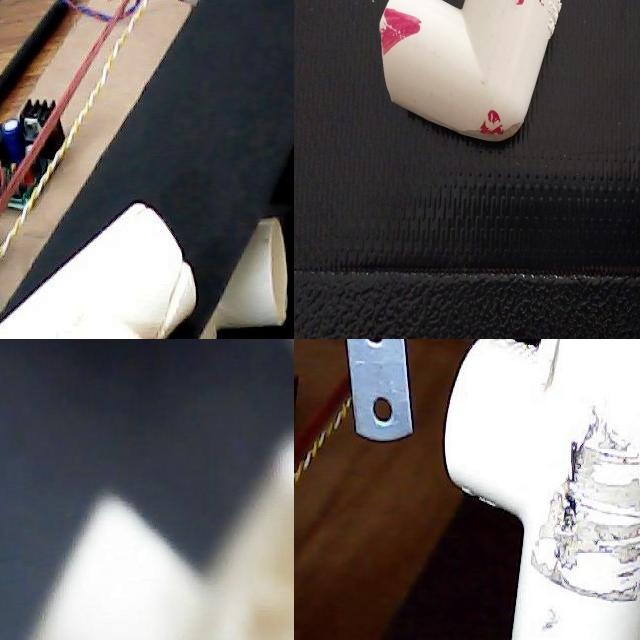Defective: (548, 419, 640, 613), (200, 496, 294, 640), (569, 339, 640, 466), (149, 217, 186, 339), (380, 281, 443, 339), (546, 41, 602, 91), (537, 339, 573, 406), (542, 3, 608, 39)
L Joint: (376, 257, 529, 339)
T Joint: (443, 339, 640, 640), (0, 205, 197, 339)
